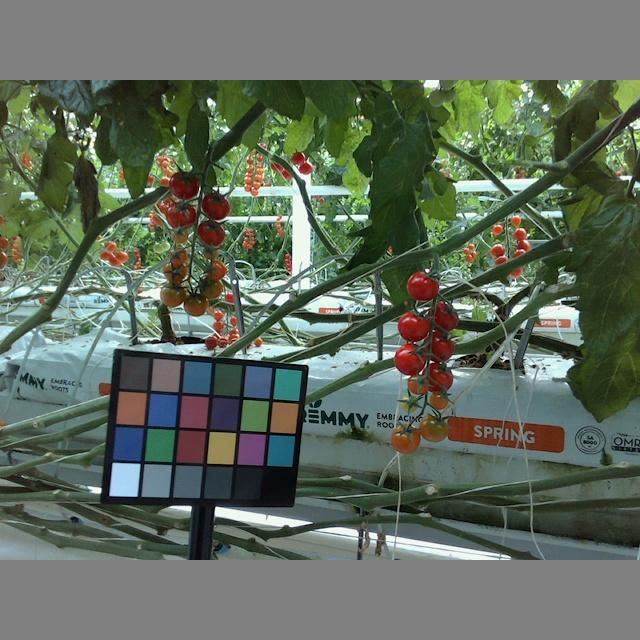pink: (390, 423, 421, 455), (418, 412, 449, 442), (180, 291, 207, 316), (194, 274, 221, 299), (163, 260, 186, 284), (159, 284, 185, 305), (407, 371, 428, 395), (401, 394, 422, 415), (206, 261, 225, 283), (426, 390, 448, 409), (168, 247, 187, 265)
red: (392, 344, 427, 376), (407, 268, 439, 302), (421, 332, 455, 364), (424, 303, 459, 334), (397, 311, 430, 342), (421, 364, 452, 394), (199, 190, 229, 220), (168, 171, 198, 199), (166, 202, 195, 229), (197, 223, 229, 246)
